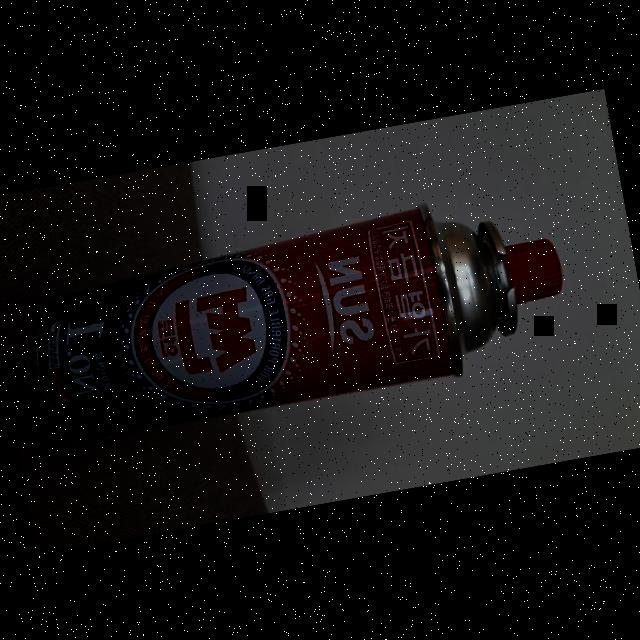chemical_spray_can: (16, 182, 585, 456)
